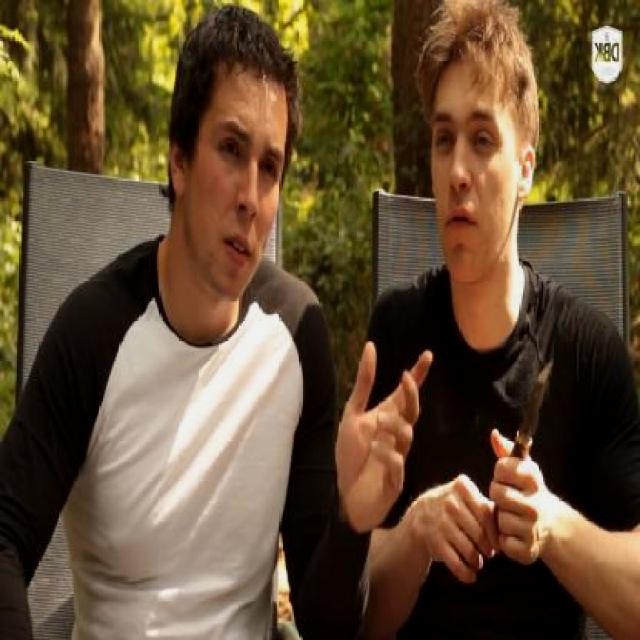knife: (488, 348, 566, 517)
